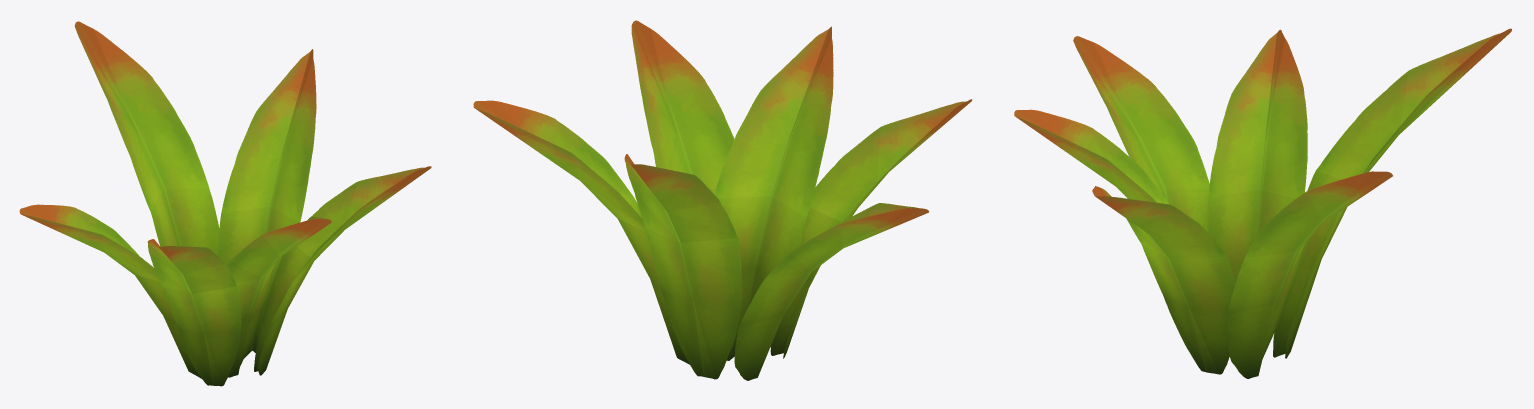
Rendered from Plant_1.glb.
3 views of the same model, side by side, from view 1: azimuth 30°, elevation 25°; view 2: azimuth 150°, elevation 25°; view 3: azimuth 270°, elevation 25° (orthographic). The views are drawn at different scales.
Bounding box in the file's own units: 1.27 × 1.01 × 1.39.
1 material, 1 textured.
